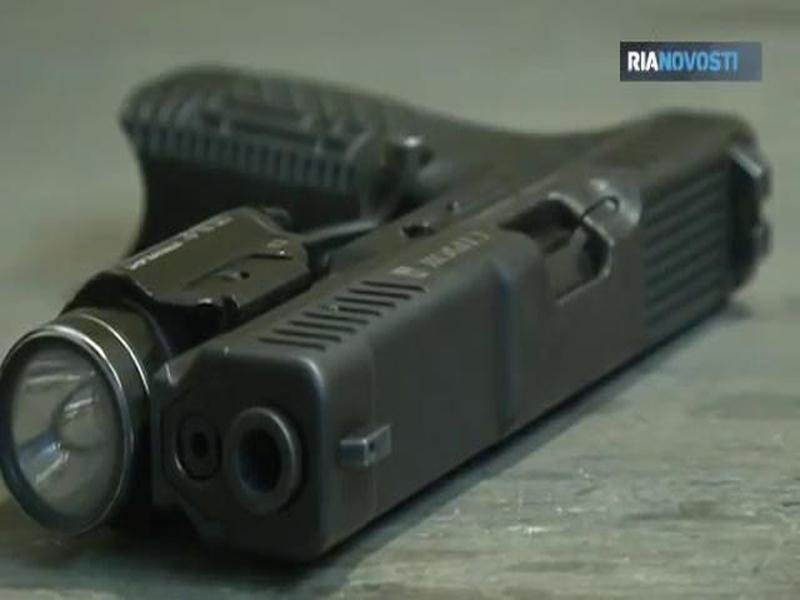Pistola: (65, 60, 772, 499)
